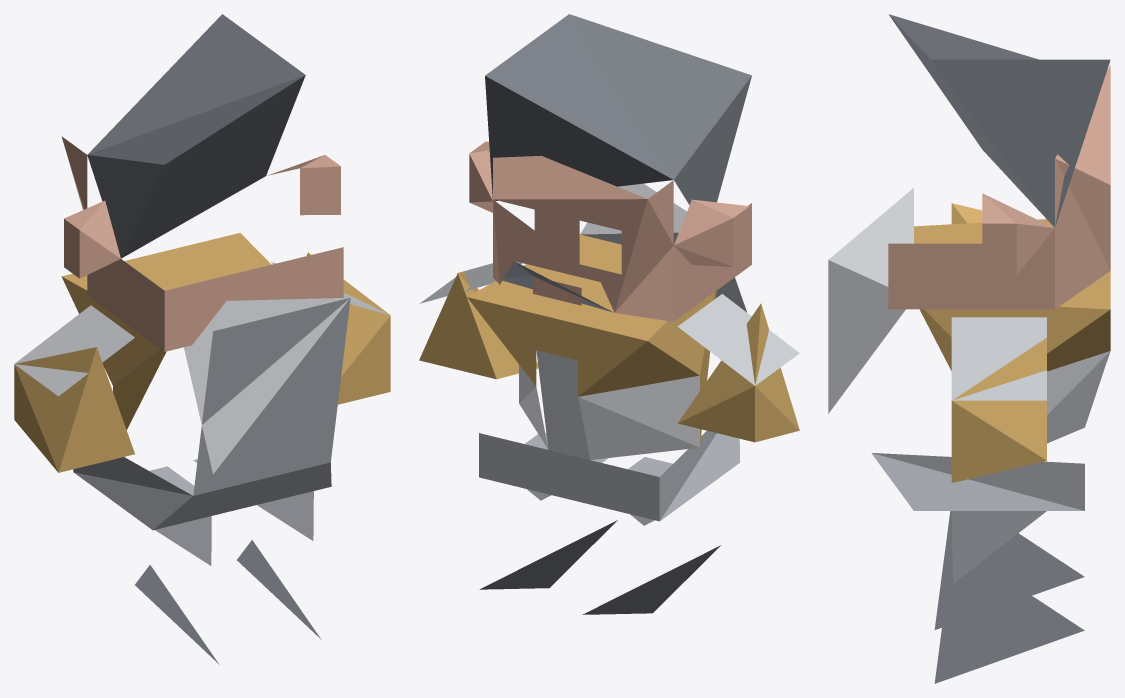
File: astronautB.lod.glb
3 renders of one model, left to right at view 1: azimuth 30°, elevation 25°; view 2: azimuth 150°, elevation 25°; view 3: azimuth 270°, elevation 25°, orthographic. The views are drawn at different scales.
Visible parts, largest first — view 1: armLeft, body, head; view 2: armLeft, head, body; view 3: armLeft, head, body.
Part boxes in pixels (box(x1,y1,x2,y2)): armLeft: box(14, 14, 390, 664); body: box(73, 298, 350, 565); head: box(61, 136, 343, 351); armLeft: box(419, 14, 799, 614); head: box(469, 141, 751, 321); body: box(479, 350, 739, 525); armLeft: box(828, 14, 1110, 683); head: box(888, 65, 1110, 309); body: box(871, 453, 1084, 583).
Bounding box in the file's own units: 0.4832 × 0.7932 × 0.33.
